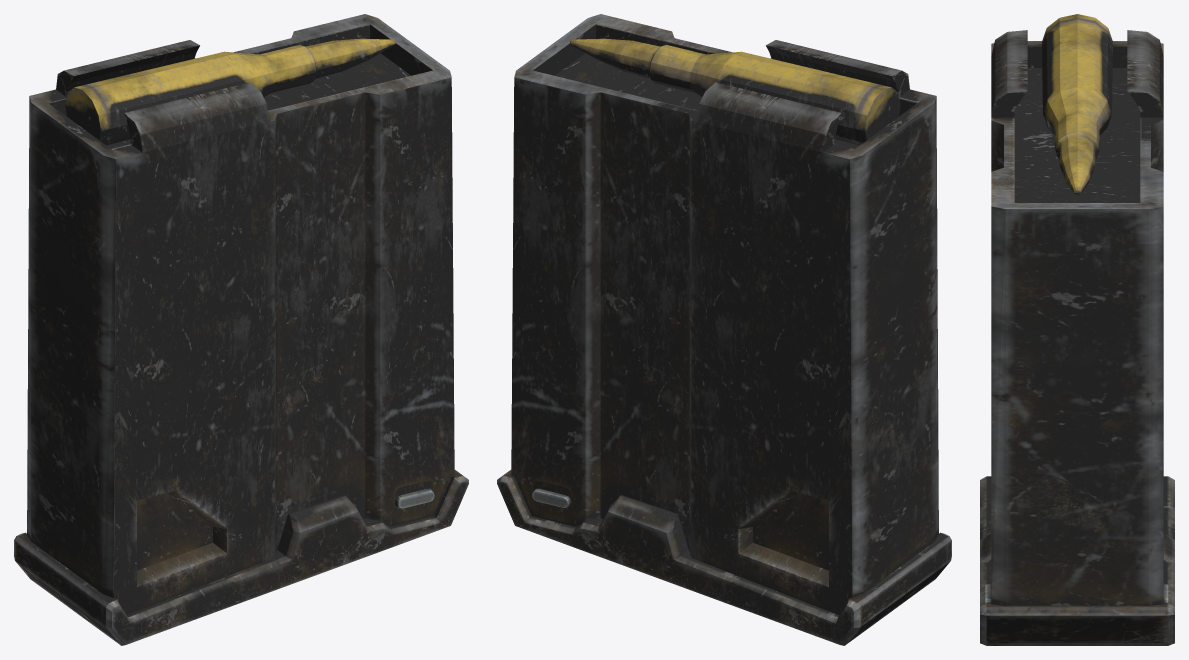
The model's file is Sniper_Magazine.fbx.
3 renders of one model, left to right at view 1: azimuth 30°, elevation 25°; view 2: azimuth 150°, elevation 25°; view 3: azimuth 270°, elevation 25°, orthographic.
Visible parts, largest first — view 1: IOPR_Mag.mo; view 2: IOPR_Mag.mo; view 3: IOPR_Mag.mo.
Part boxes in pixels (<box>): IOPR_Mag.mo: <box>14,14,468,645</box>; IOPR_Mag.mo: <box>497,14,951,645</box>; IOPR_Mag.mo: <box>980,14,1174,645</box>.
Bounding box in the file's own units: 9.98 × 13.68 × 4.67.
1 material, 1 textured.
